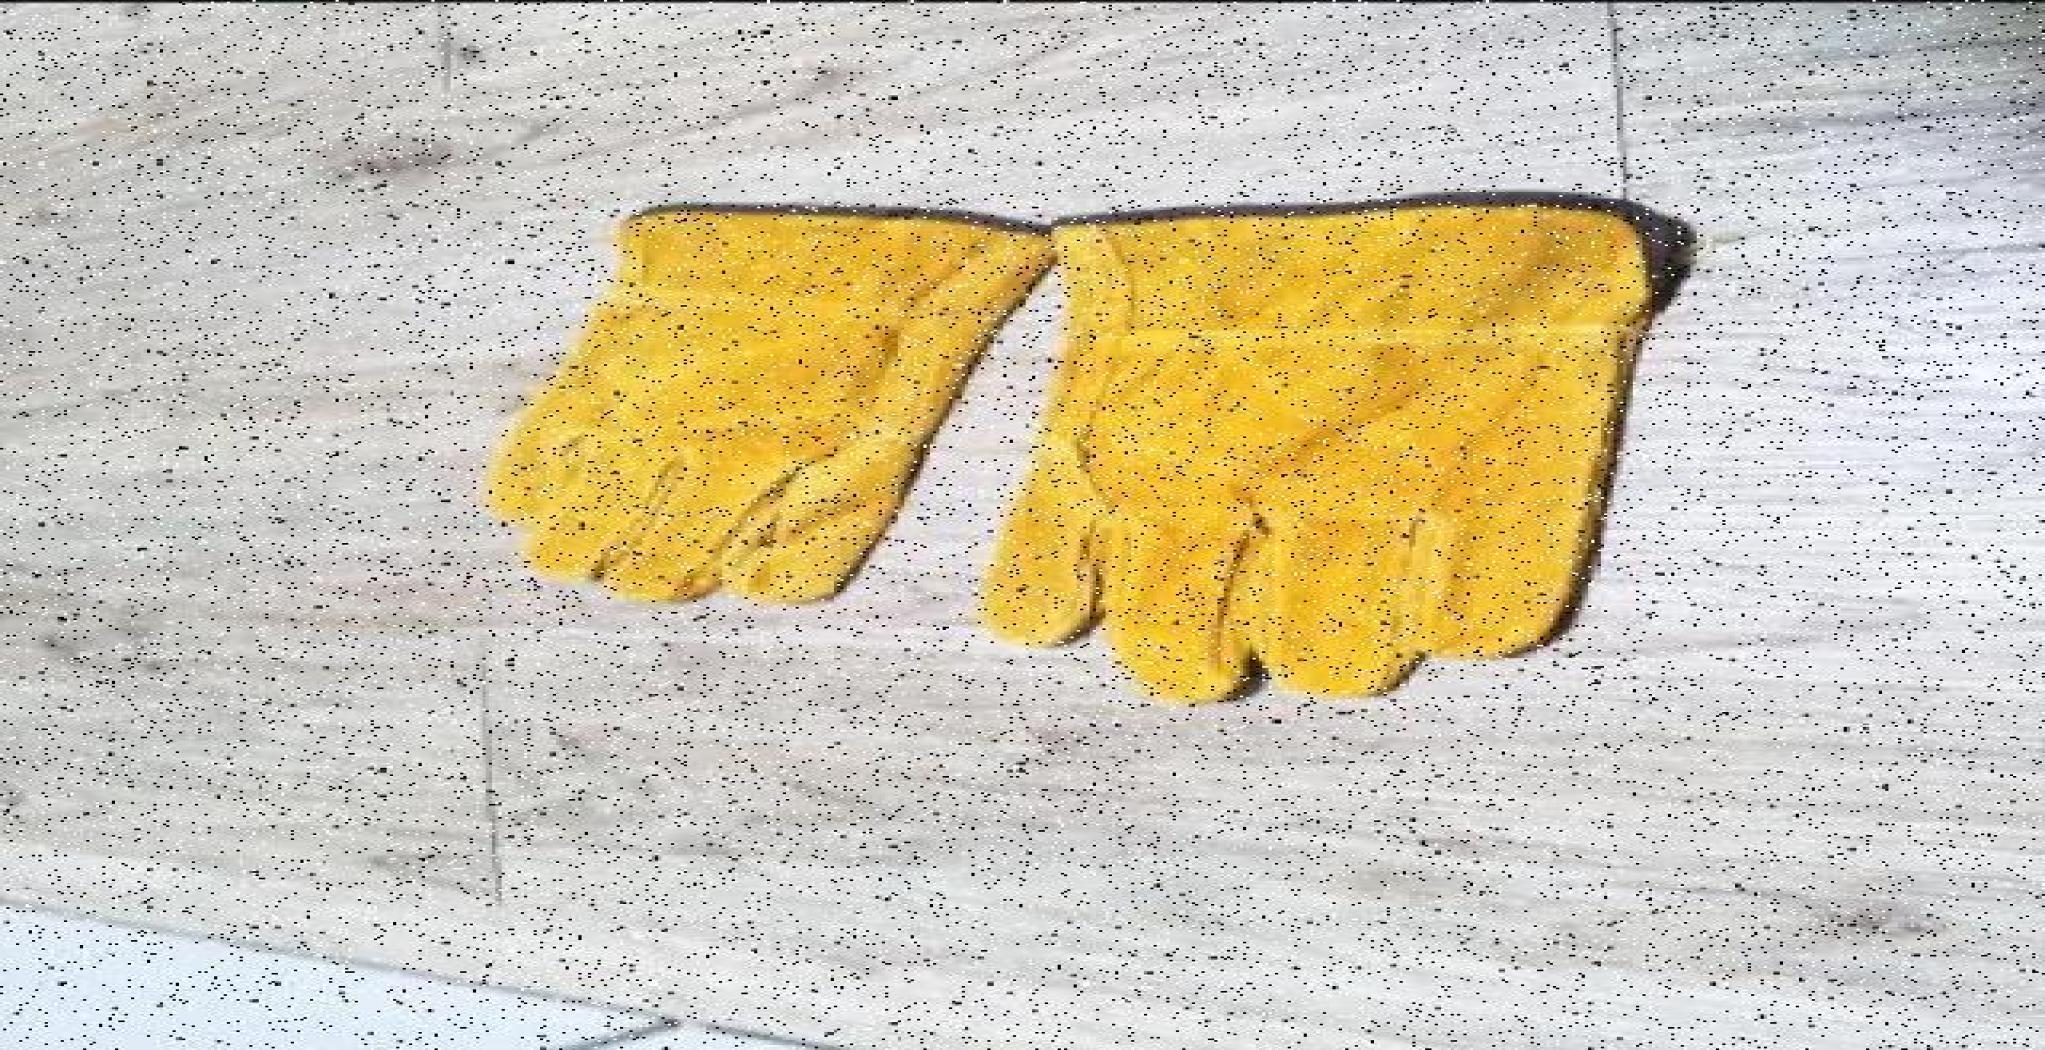gloved: (1041, 208, 1653, 684), (497, 196, 1050, 599)
